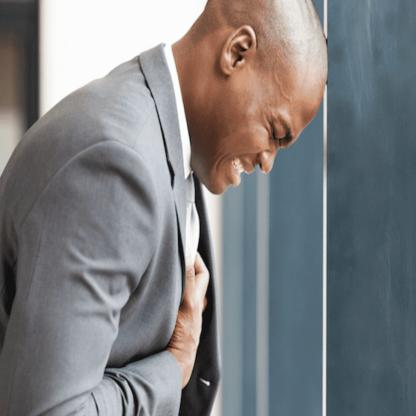pain: (266, 98, 296, 155)
